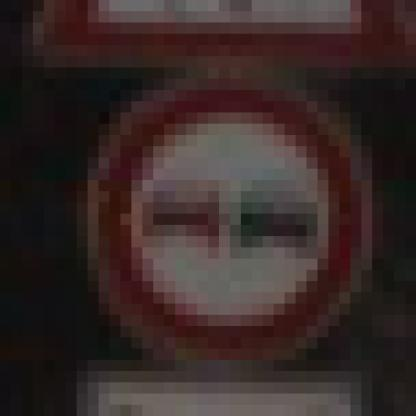No Overtaking: (67, 57, 362, 361)
